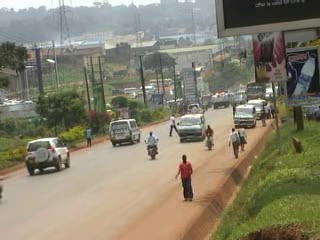Car: (18, 135, 74, 179), (182, 100, 206, 117), (228, 92, 247, 107)
Motorcycle: (140, 130, 161, 160), (202, 124, 220, 152)
